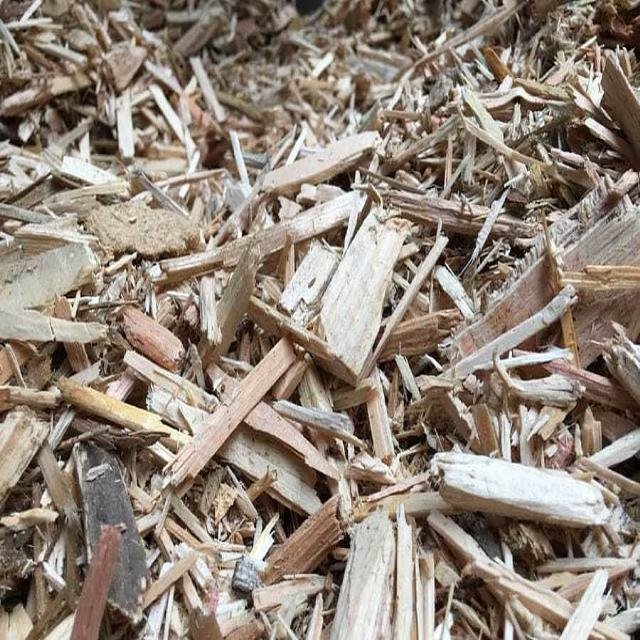green waste: (2, 6, 634, 636)
